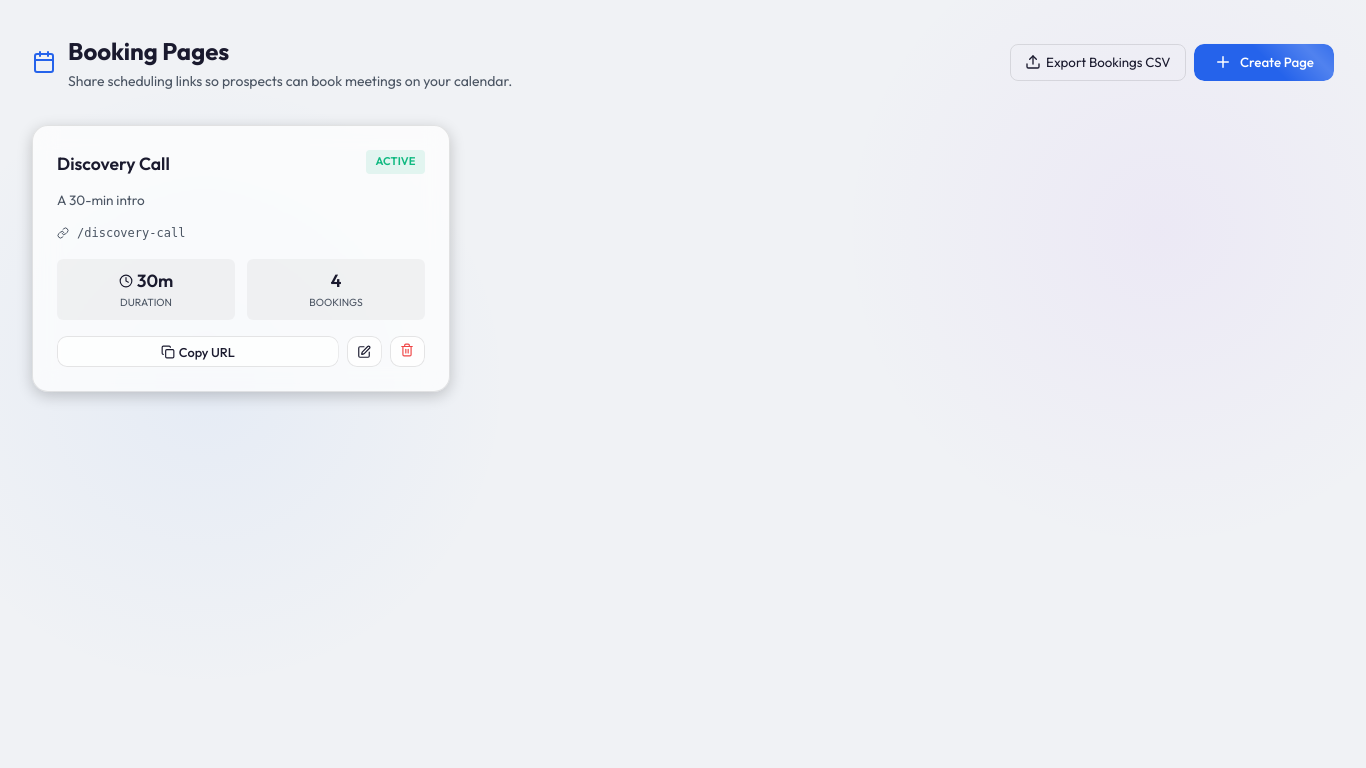
Scenario: <BookingPages /> — create-page modal › opens the Create modal when the header "Create Page" button is clicked
The image size is (1366, 768).
Expected: the heading "Discovery Call" is shown, 57,152 -> 170,175
Click the button "Create Page": click(1264, 62) 1194,44 -> 1334,81
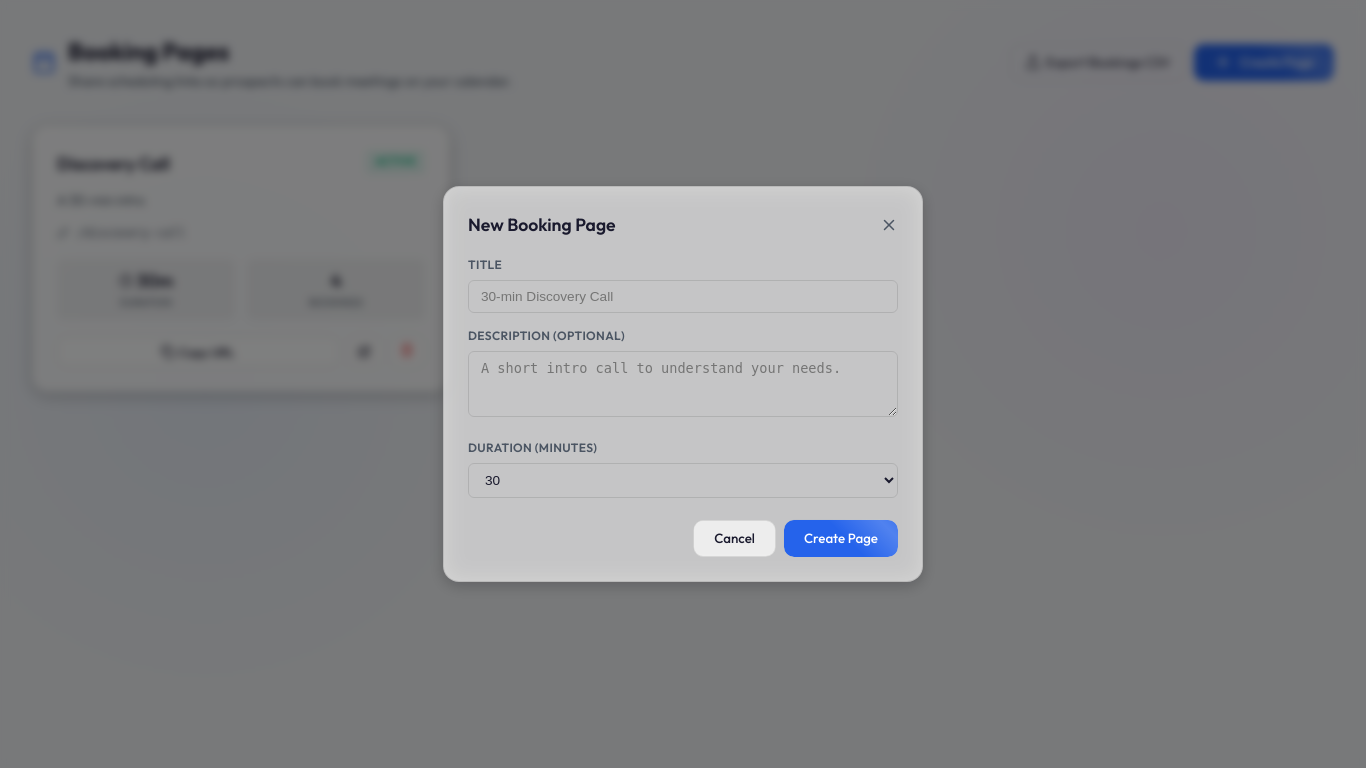
Result: the heading "New Booking Page" is shown at 468,211 -> 616,239
Result: the field with placeholder "30-min Discovery Call" is shown at 468,280 -> 898,313
